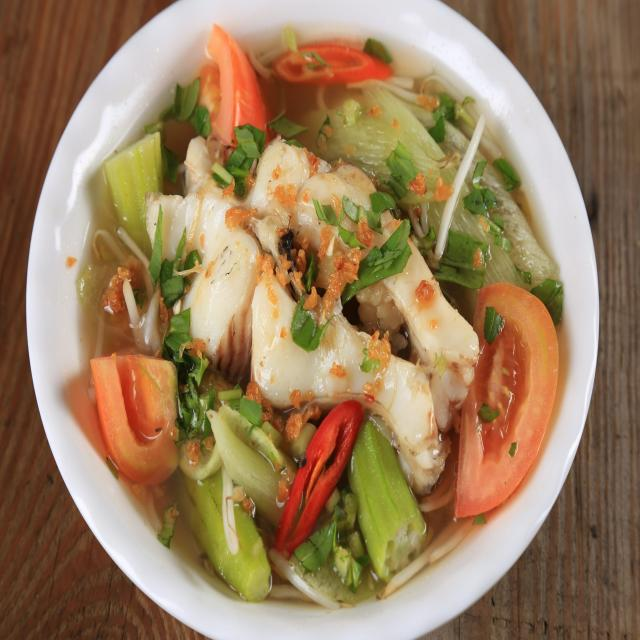canh chua: (72, 8, 567, 613)
